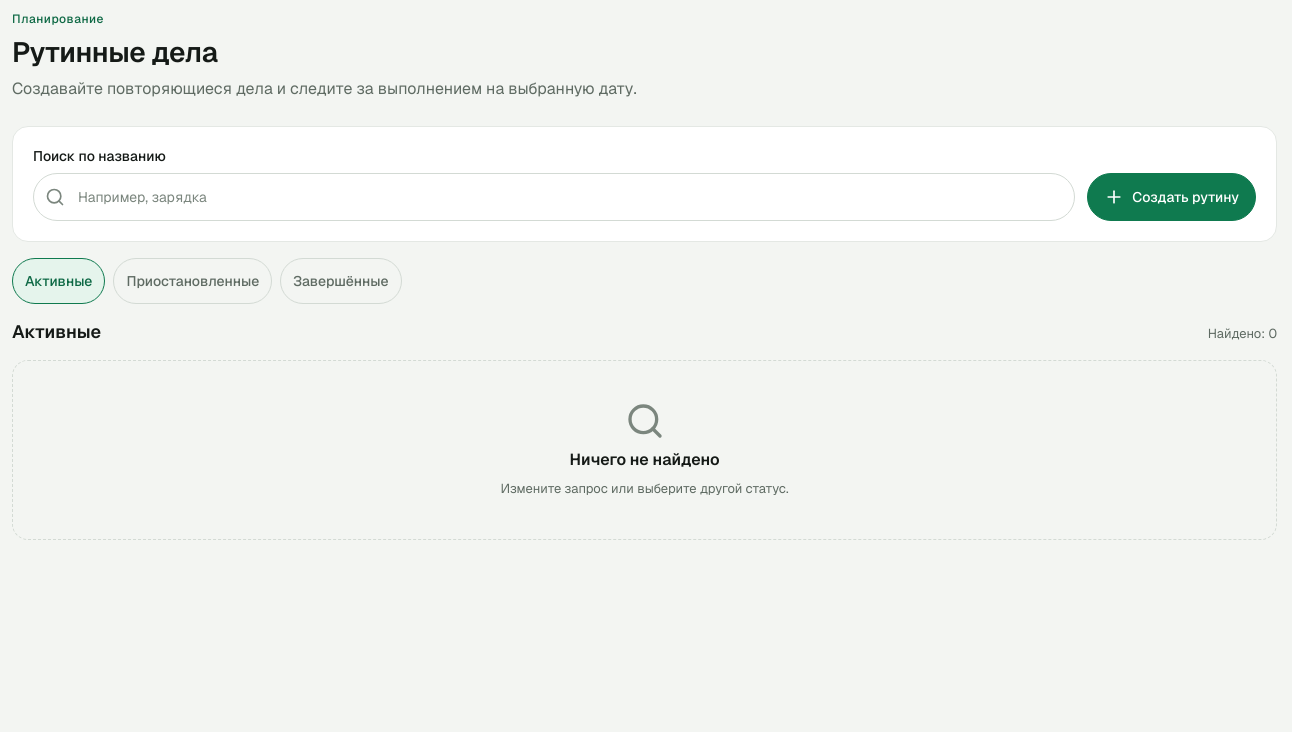
страница рутин › соединяет каркас страницы с поиском и фильтрами рутин
Expected: the heading "Рутинные дела" is shown, [12,34,218,70]
Click the radio button labelled "Завершённые".
click(341, 281)  # box [280,258,402,304]
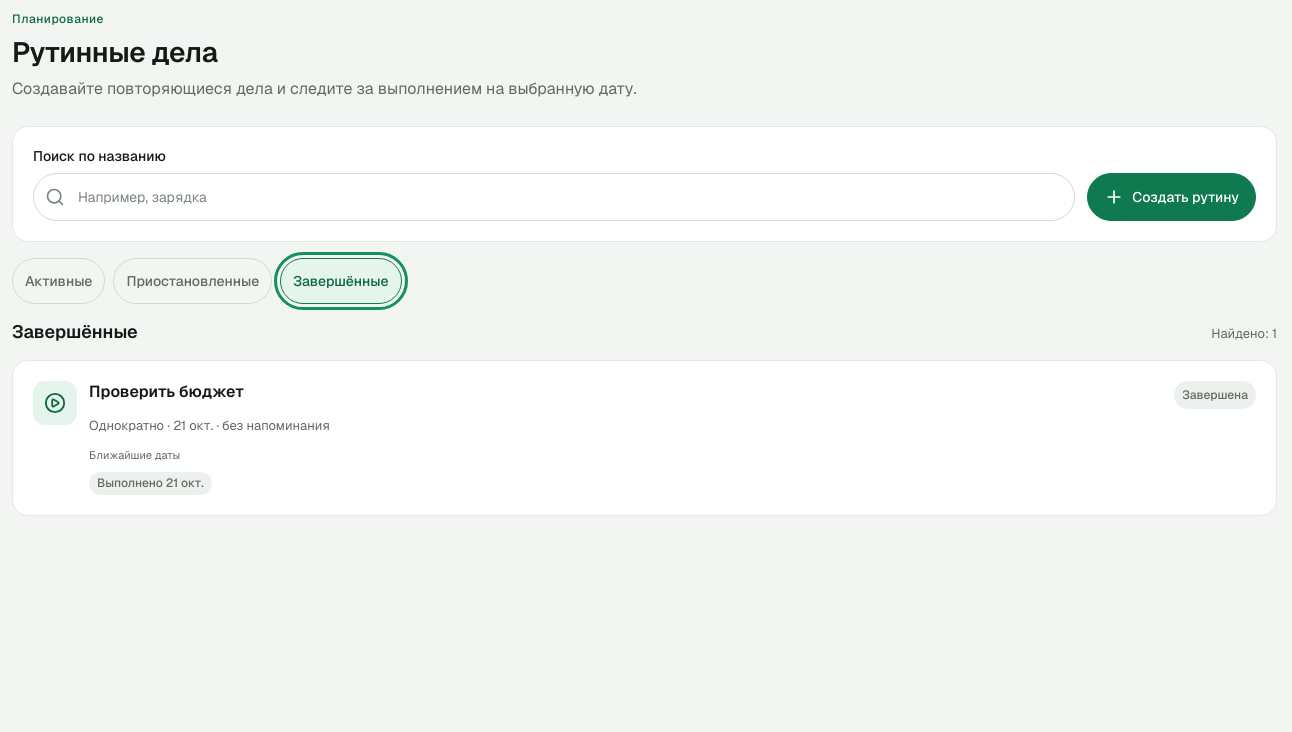
Result: the heading "Проверить бюджет" is shown at [89,382,244,404]
Result: the text "Найдено: 1" is shown at [1211,325,1277,344]
